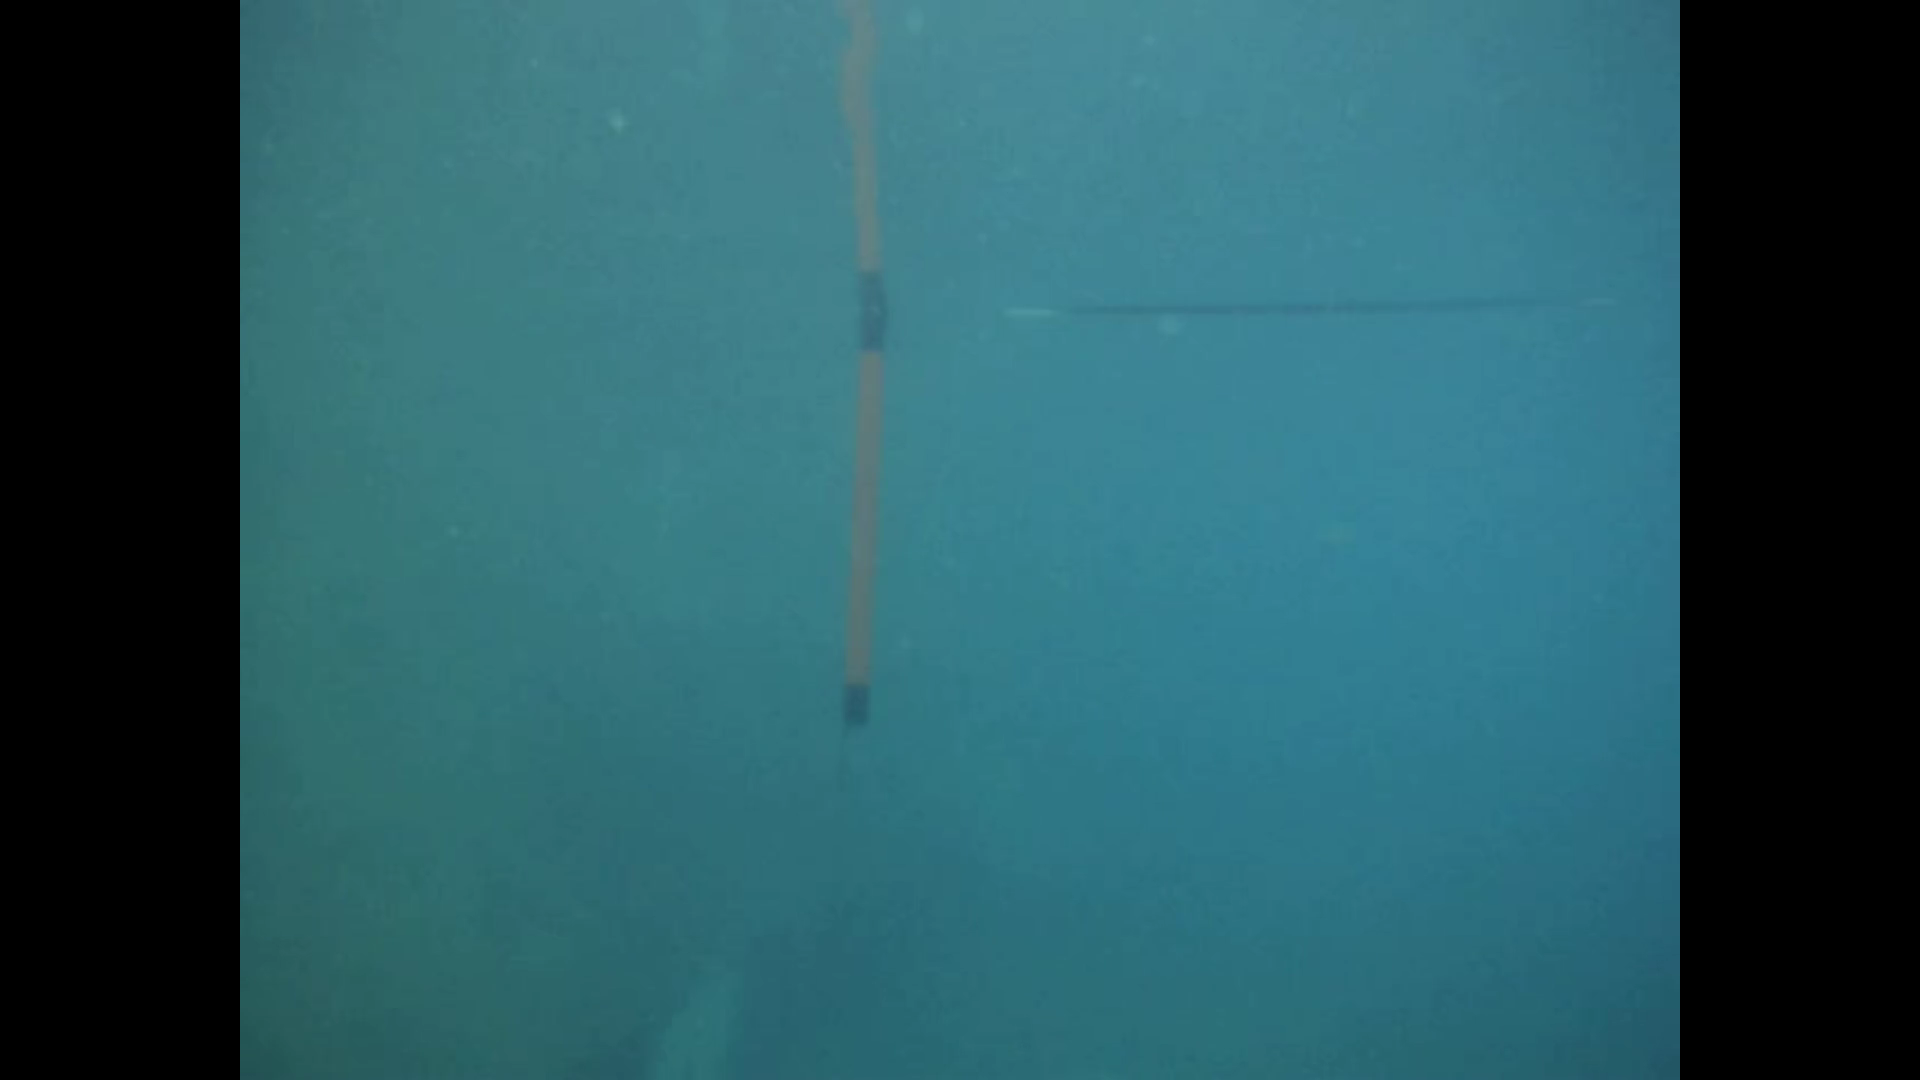gate: (837, 294, 1677, 735)
